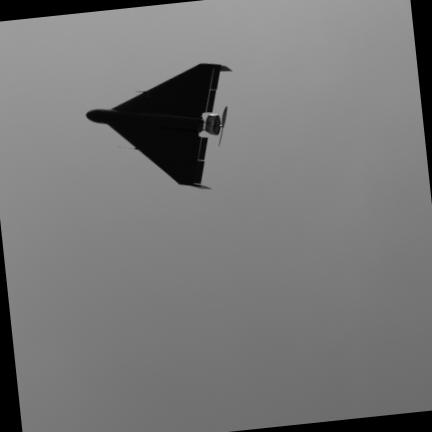Shahed: (86, 64, 230, 188)
